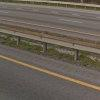Bridge: (4, 16, 97, 74)
